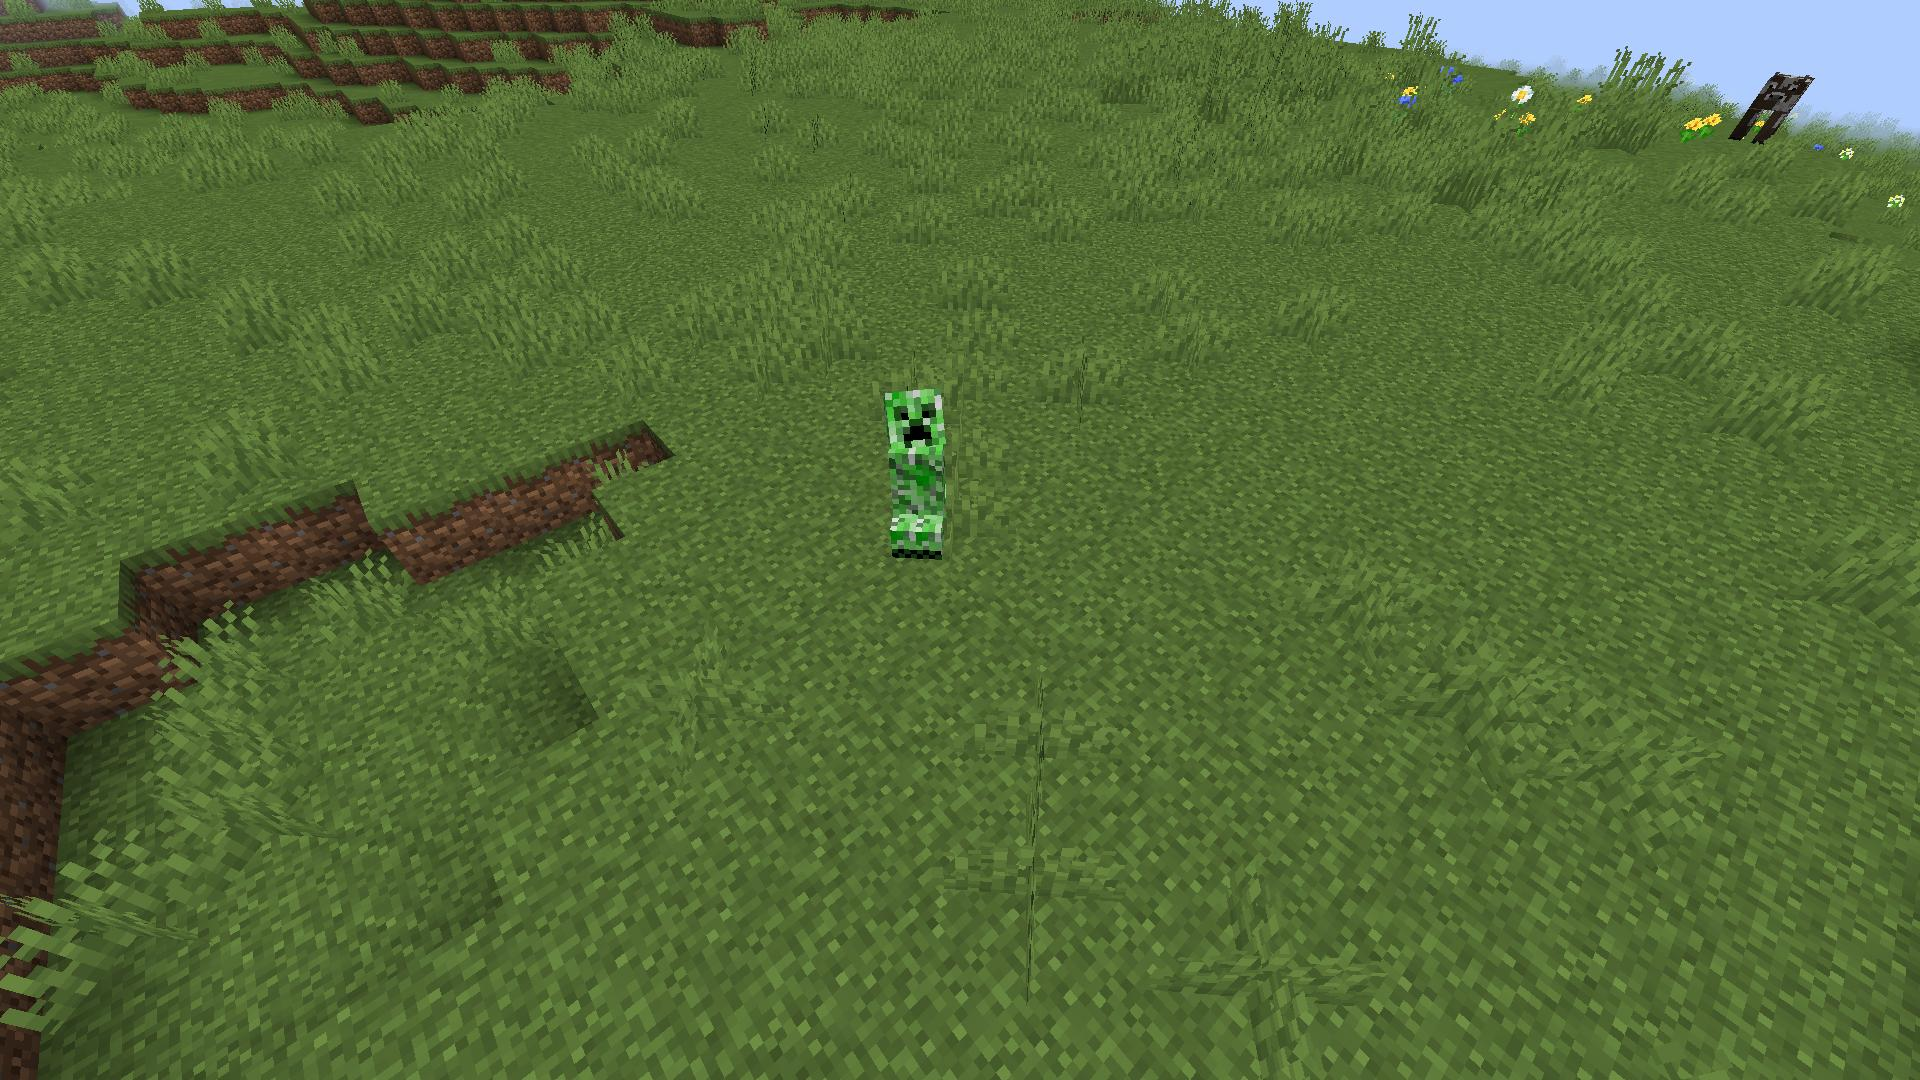cow: (1730, 62, 1826, 160)
creeper: (877, 378, 964, 568)
